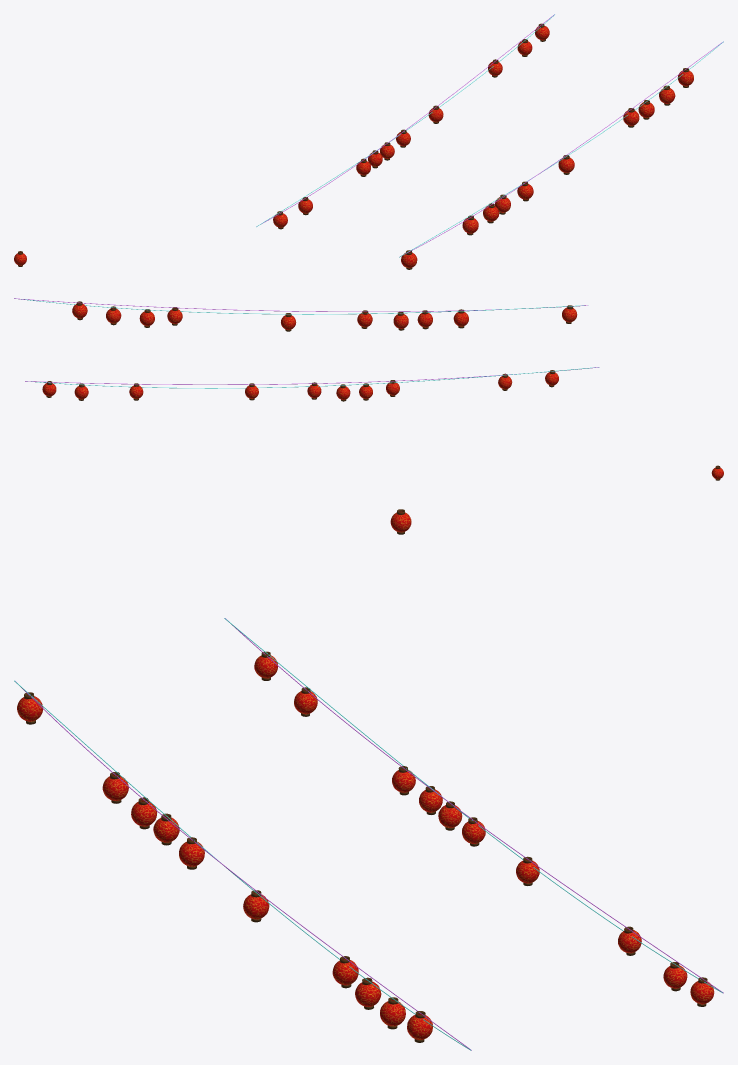
3 renders of one model, top to bottom at view 1: azimuth 30°, elevation 25°; view 2: azimuth 150°, elevation 25°; view 3: azimuth 270°, elevation 25°, orthographic. The views are drawn at different scales.
Parts seen in each view (by area): view 1: GeoCables.005, GeoCables.007; view 2: GeoCables.005, GeoCables.007; view 3: GeoCables.007, GeoCables.005.
Boxes of the visible parts, box(x1,y1,x2,y2) form: GeoCables.005: box(399, 41, 723, 257); GeoCables.007: box(256, 14, 554, 226); GeoCables.005: box(14, 298, 588, 314); GeoCables.007: box(25, 367, 599, 388); GeoCables.007: box(224, 618, 723, 993); GeoCables.005: box(14, 680, 471, 1050).
Bounding box in the file's own units: 3875 × 179 × 2031.
3 materials, 2 textured.
